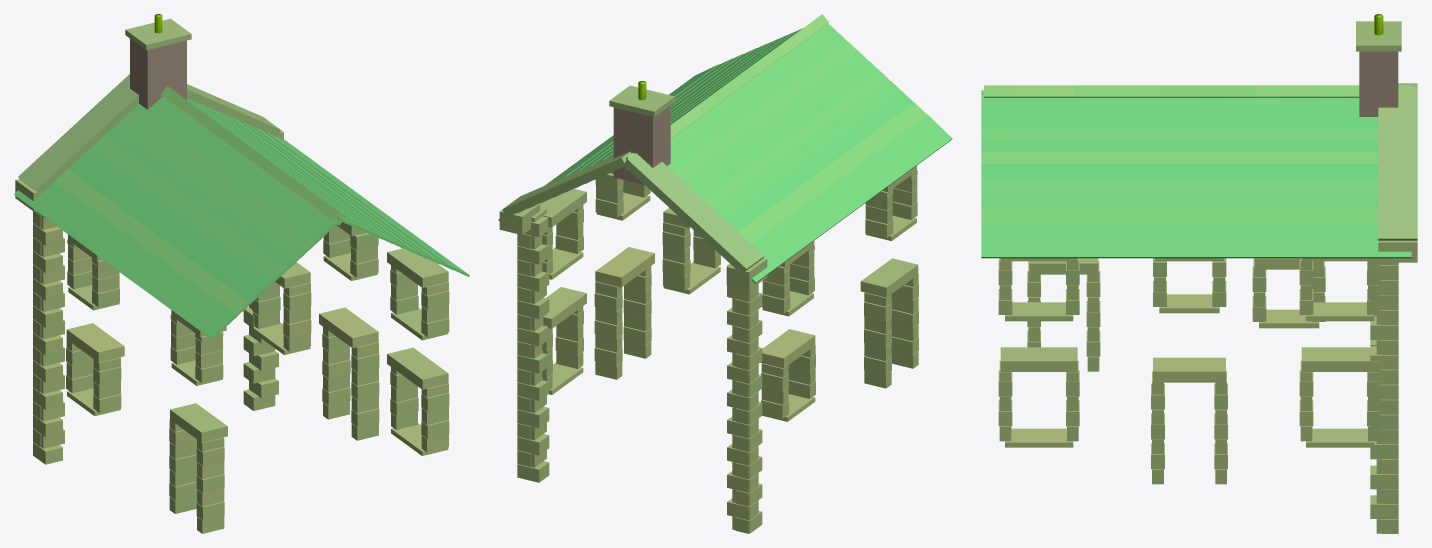
File: SM_Bld_134_Stone.glb
3 views of the same model, side by side, from view 1: azimuth 30°, elevation 25°; view 2: azimuth 150°, elevation 25°; view 3: azimuth 270°, elevation 25° (orthographic). The views are drawn at different scales.
Parts seen in each view (by area): view 1: SM_Bld_134_Stone; view 2: SM_Bld_134_Stone; view 3: SM_Bld_134_Stone.
Boxes of the visible parts, x1=… form: SM_Bld_134_Stone: x1=14, y1=14, x2=469, y2=533; SM_Bld_134_Stone: x1=498, y1=14, x2=952, y2=533; SM_Bld_134_Stone: x1=981, y1=14, x2=1417, y2=533.
Size of the model in its own units: 5.94 by 9.17 by 7.95.
